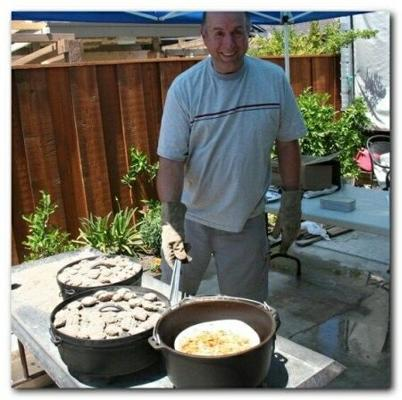person: (159, 13, 304, 306)
